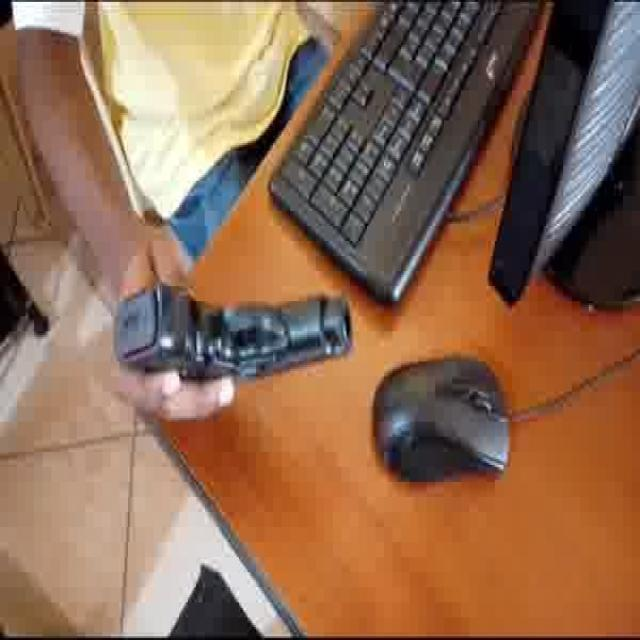weapon: (116, 280, 352, 380)
